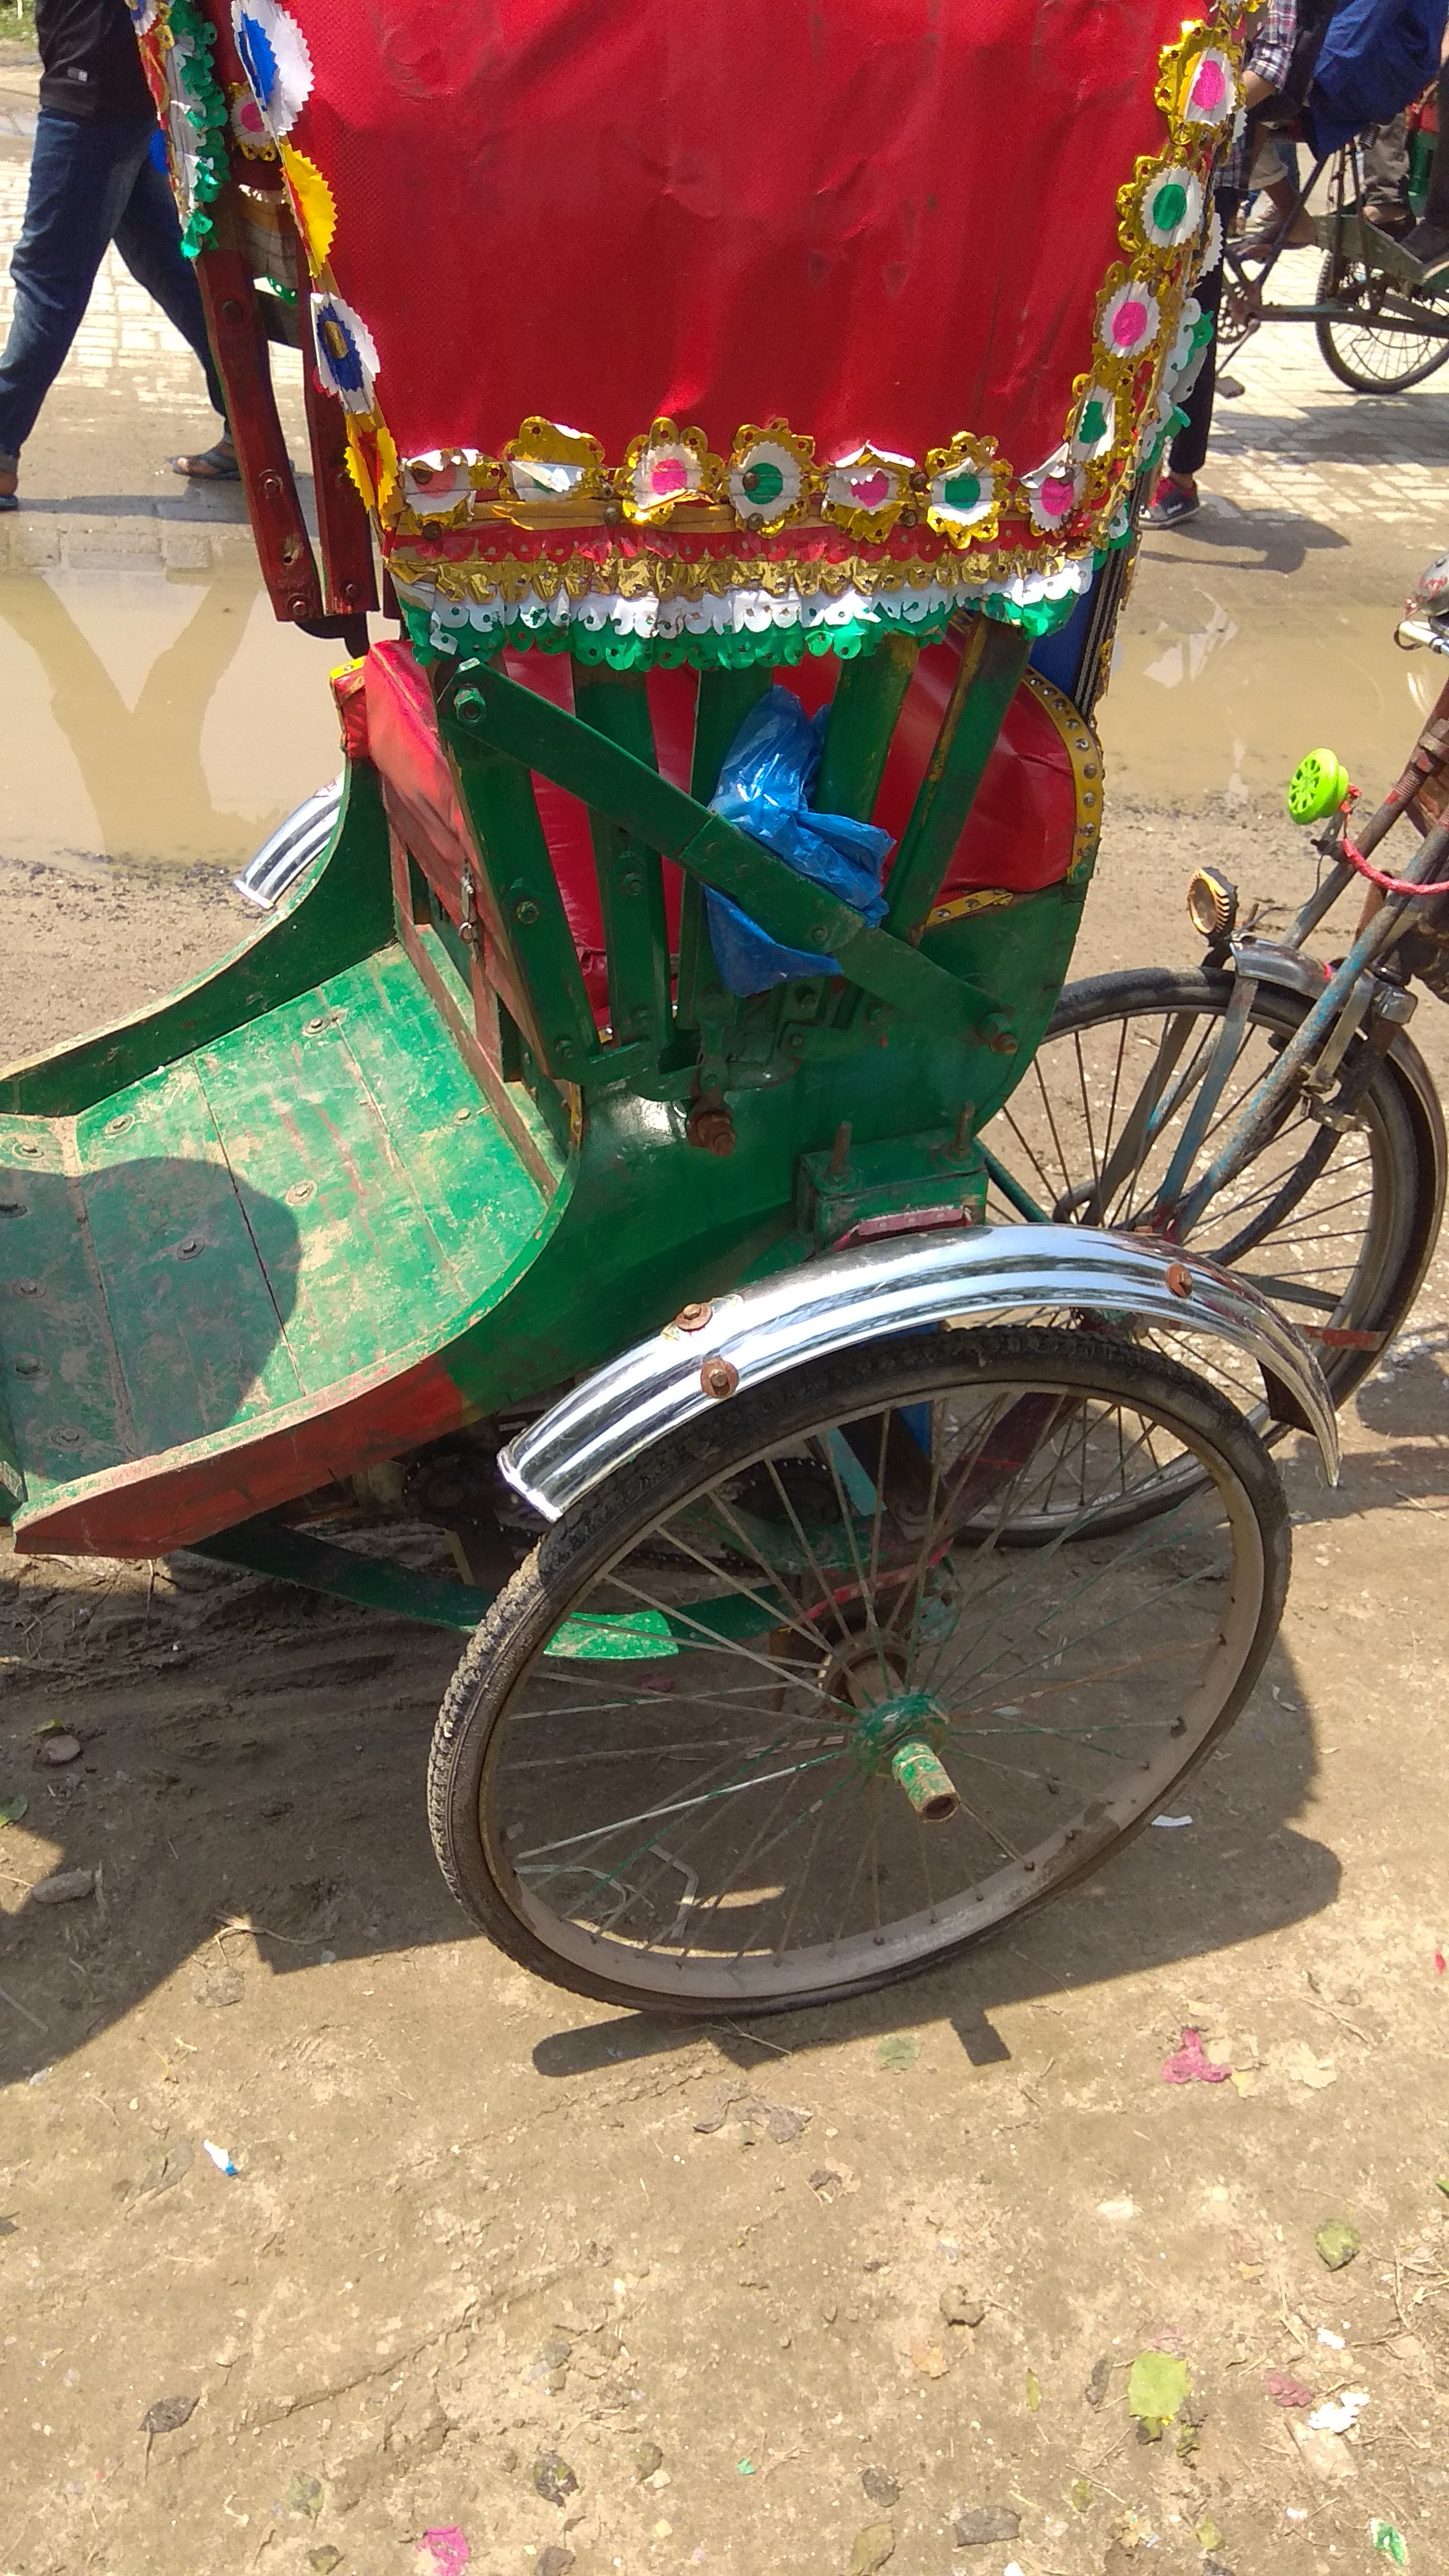Rickshaw: (9, 7, 1307, 2006)
